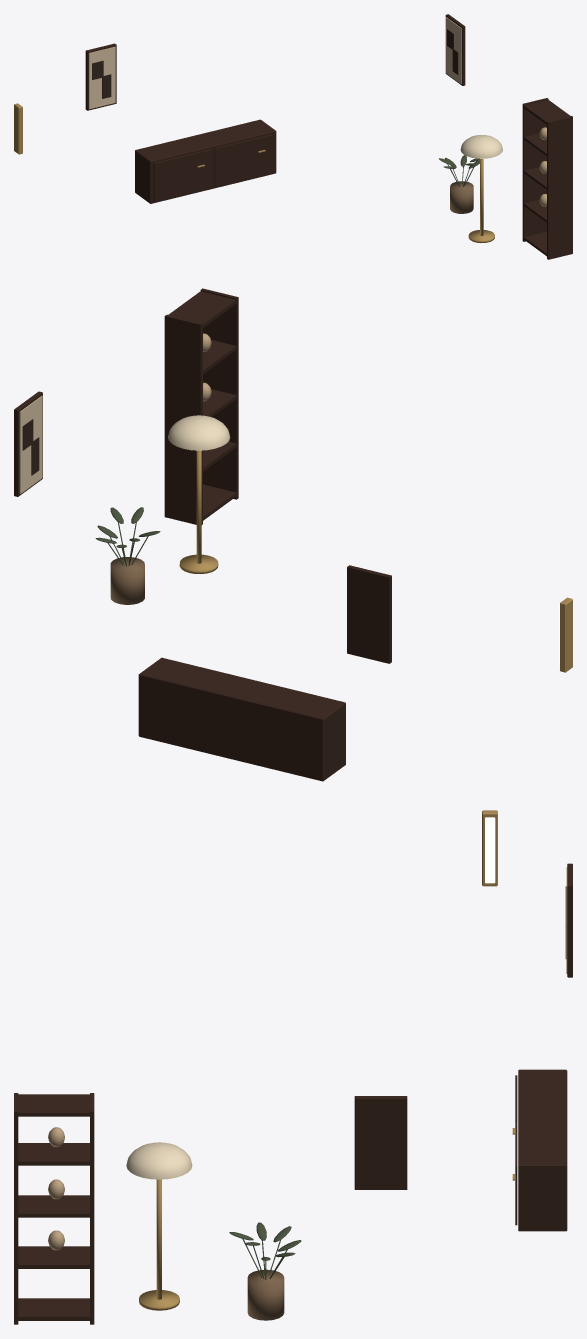
The model's file is decor.glb.
3 views of the same model, one above another, from view 1: azimuth 30°, elevation 25°; view 2: azimuth 150°, elevation 25°; view 3: azimuth 270°, elevation 25° (orthographic). The views are drawn at different scales.
Parts seen in each view (by area): view 1: Narrow shelf upright, Low cabinet, Cabinet door, Cabinet door.001, Narrow shelf upright.001, Abstract painting background, Mushroom hemisphere shade, Abstract painting background.001, Plant pot, Narrow right shelf.004, Narrow artwork frame, Left wall brass sconce (+2 smaller); view 2: Low cabinet, Narrow shelf upright.001, Narrow artwork frame, Narrow shelf upright, Mushroom hemisphere shade, Plant pot, Abstract painting background.001, Narrow right shelf.004, Left wall brass sconce, Narrow artwork frame.001, Narrow right shelf, Mushroom brass column (+1 smaller); view 3: Low cabinet, Narrow artwork frame.001, Mushroom hemisphere shade, Plant pot, Narrow right shelf, Narrow right shelf.004, Narrow right shelf.003, Narrow right shelf.002, Narrow right shelf.001, Narrow shelf upright.001, Narrow shelf upright, Left wall sconce diffuser (+3 smaller).
Part boxes in pixels (x1=…): Narrow shelf upright: x1=547, y1=116, x2=572, y2=259; Low cabinet: x1=135, y1=119, x2=276, y2=203; Cabinet door: x1=153, y1=149, x2=212, y2=201; Cabinet door.001: x1=214, y1=134, x2=273, y2=186; Narrow shelf upright.001: x1=522, y1=98, x2=548, y2=241; Abstract painting background: x1=89, y1=46, x2=115, y2=109; Mushroom hemisphere shade: x1=460, y1=135, x2=502, y2=158; Abstract painting background.001: x1=445, y1=17, x2=461, y2=83; Plant pot: x1=450, y1=181, x2=473, y2=213; Narrow right shelf.004: x1=524, y1=100, x2=570, y2=125; Narrow artwork frame: x1=85, y1=43, x2=116, y2=110; Left wall brass sconce: x1=14, y1=103, x2=22, y2=154; Low cabinet: x1=138, y1=657, x2=345, y2=781; Narrow shelf upright.001: x1=164, y1=314, x2=202, y2=524; Narrow artwork frame: x1=347, y1=565, x2=391, y2=663; Narrow shelf upright: x1=200, y1=288, x2=238, y2=499; Mushroom hemisphere shade: x1=168, y1=415, x2=230, y2=450; Plant pot: x1=110, y1=557, x2=144, y2=604; Abstract painting background.001: x1=19, y1=395, x2=42, y2=494; Narrow right shelf.004: x1=168, y1=291, x2=238, y2=328; Left wall brass sconce: x1=560, y1=597, x2=572, y2=672; Narrow artwork frame.001: x1=14, y1=391, x2=42, y2=496; Narrow right shelf: x1=201, y1=484, x2=238, y2=521; Mushroom brass column: x1=196, y1=450, x2=201, y2=563; Low cabinet: x1=518, y1=1069, x2=567, y2=1231; Narrow artwork frame.001: x1=354, y1=1096, x2=407, y2=1189; Mushroom hemisphere shade: x1=126, y1=1142, x2=192, y2=1179; Plant pot: x1=247, y1=1269, x2=284, y2=1320; Narrow right shelf: x1=15, y1=1298, x2=93, y2=1320; Narrow right shelf.004: x1=15, y1=1094, x2=93, y2=1116; Narrow right shelf.003: x1=15, y1=1143, x2=93, y2=1165; Narrow right shelf.002: x1=15, y1=1195, x2=93, y2=1217; Narrow right shelf.001: x1=15, y1=1246, x2=93, y2=1268; Narrow shelf upright.001: x1=90, y1=1093, x2=94, y2=1324; Narrow shelf upright: x1=14, y1=1093, x2=18, y2=1324; Left wall sconce diffuser: x1=485, y1=817, x2=495, y2=883.
Bounding box in the file's own units: 5.95 × 2.15 × 4.56.
